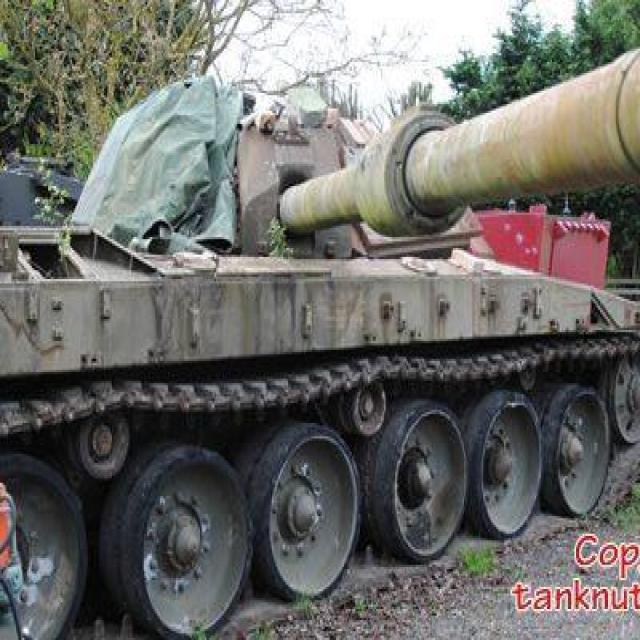Tanks: (3, 113, 632, 558)
